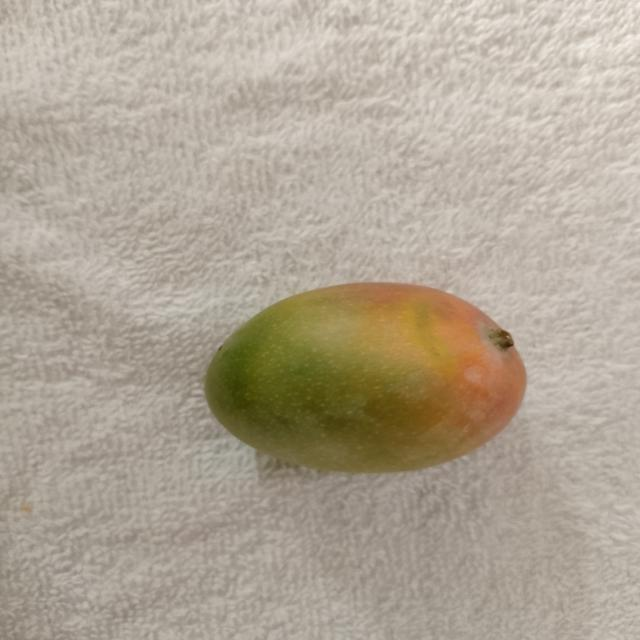mango: (206, 283, 526, 472)
